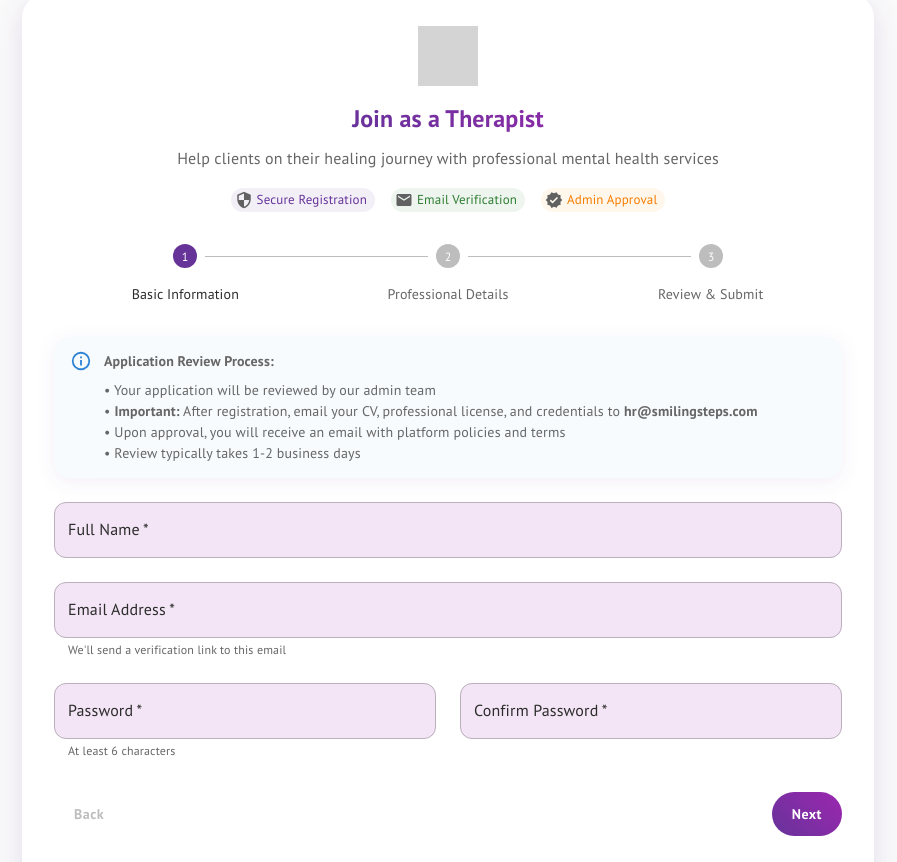
it: TherapistRegistration › shows validation errors for empty required fields
Click the button "Next": (807, 814) [772,792,842,836]
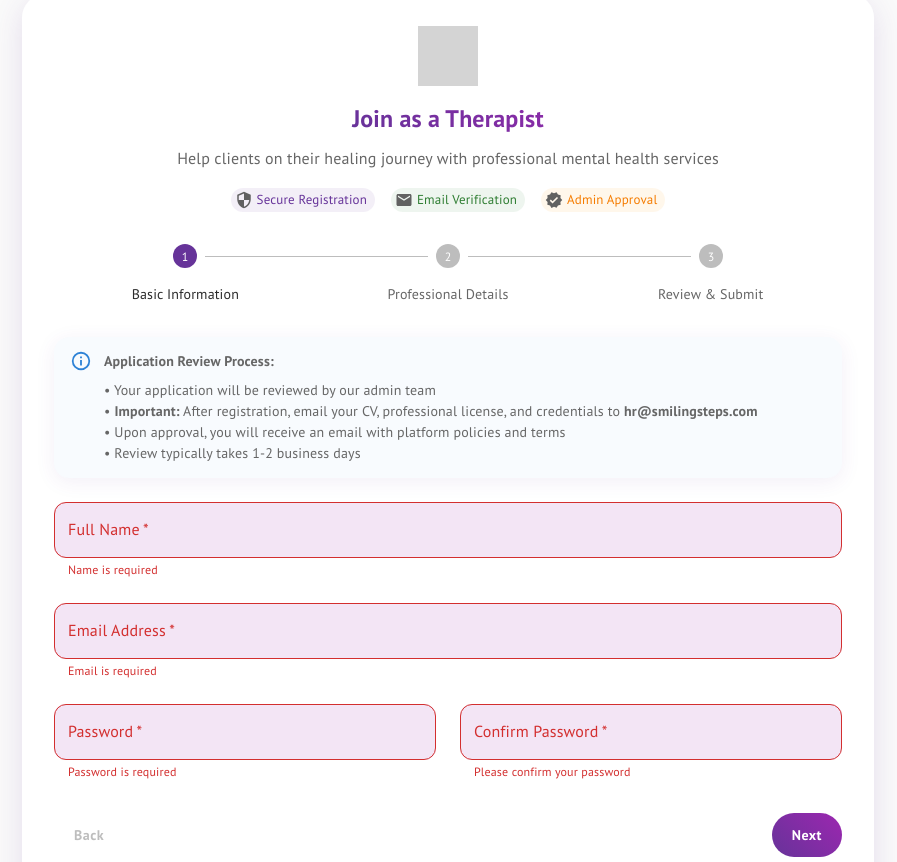
Check: the text "Name is required" is shown, box [68,562,158,577]
Check: the text "Email is required" is shown, box [68,663,157,678]
Check: the text "Password is required" is shown, box [68,764,176,779]
